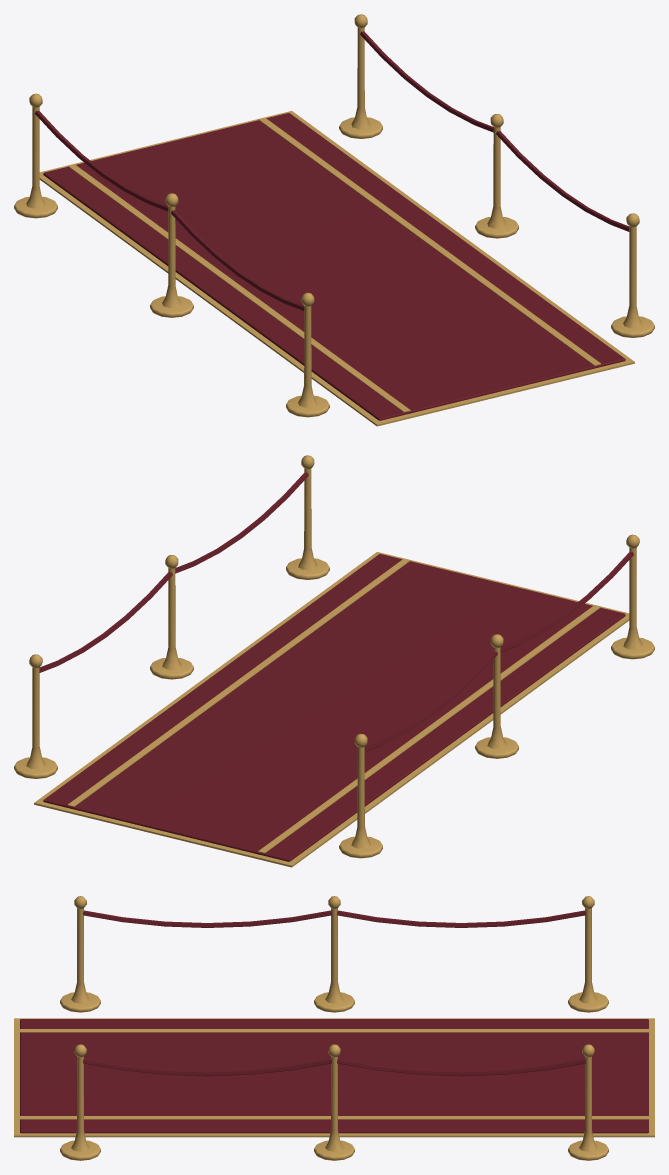
Rendered from red_carpet_short.glb.
3 renders of one model, top to bottom at view 1: azimuth 30°, elevation 25°; view 2: azimuth 150°, elevation 25°; view 3: azimuth 270°, elevation 25°, orthographic. The views are drawn at different scales.
Parts seen in each view (by area): view 1: red_carpet_short; view 2: red_carpet_short; view 3: red_carpet_short.
Part boxes in pixels (box(x1,y1,x2,y2)): red_carpet_short: box(14, 14, 654, 426); red_carpet_short: box(14, 455, 654, 867); red_carpet_short: box(14, 896, 654, 1160).
Bounding box in the file's own units: 3.24 × 0.9855 × 5.3.
